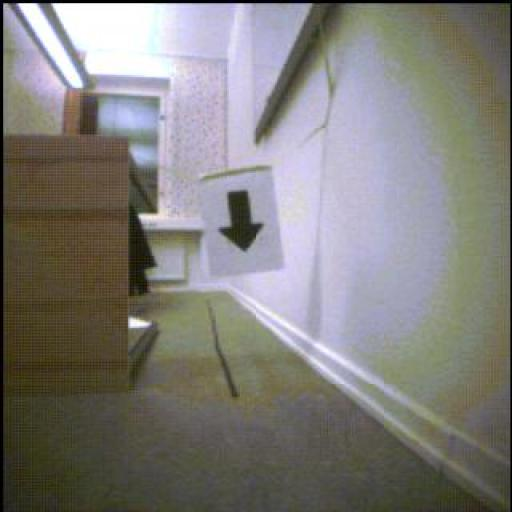arrow: (221, 192, 264, 253)
